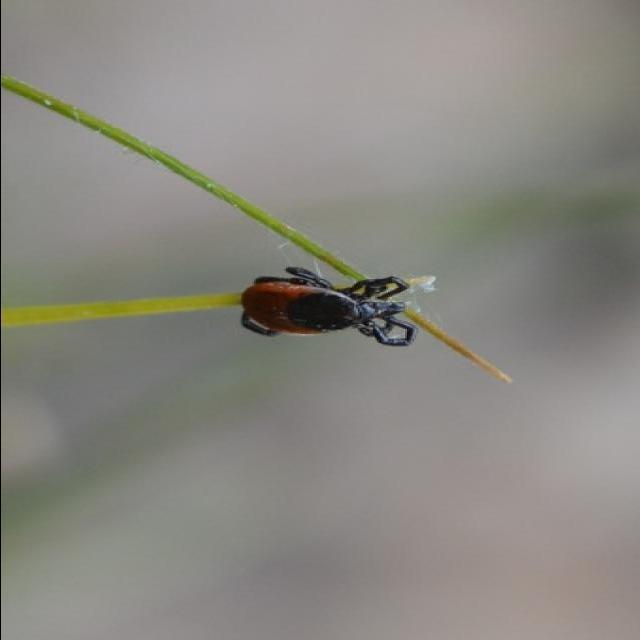Ixodes Ricinus-F: (238, 268, 417, 348)
